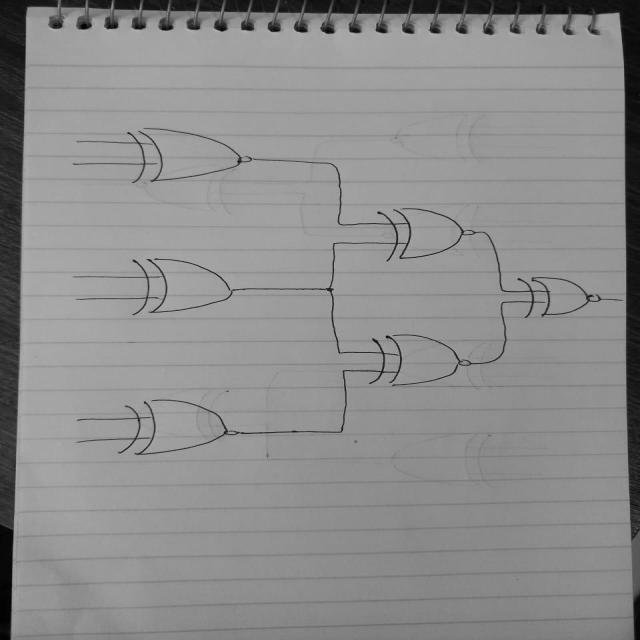XNOR: (115, 119, 270, 193), (107, 390, 256, 462), (360, 326, 489, 400), (370, 198, 497, 268), (517, 269, 608, 326)
XOR: (114, 250, 264, 340)
